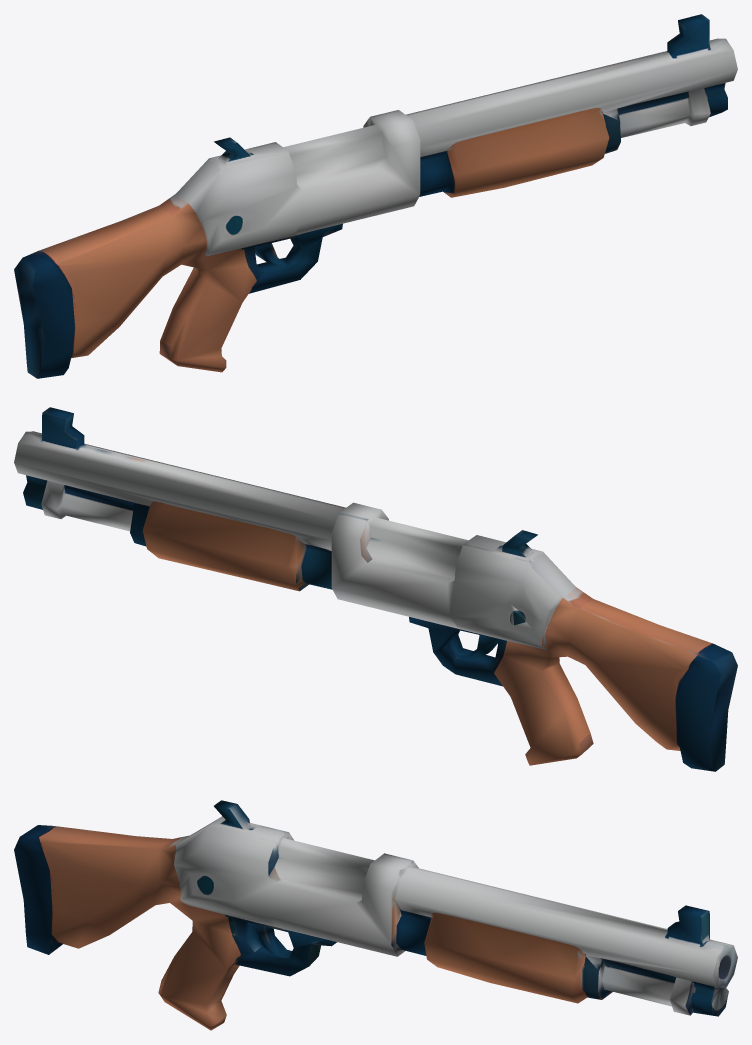
The model's file is 霰弹枪-zero.fbx.
3 renders of one model, top to bottom at view 1: azimuth 30°, elevation 25°; view 2: azimuth 150°, elevation 25°; view 3: azimuth 330°, elevation 25°, orthographic.
Parts seen in each view (by area): view 1: texture_pbr_v128; view 2: texture_pbr_v128; view 3: texture_pbr_v128.
Part boxes in pixels (x1=…): texture_pbr_v128: x1=14, y1=14, x2=737, y2=378; texture_pbr_v128: x1=14, y1=407, x2=737, y2=771; texture_pbr_v128: x1=14, y1=800, x2=737, y2=1030.
Bounding box in the file's own units: 117 × 36.78 × 10.22.
1 material, 1 textured.
